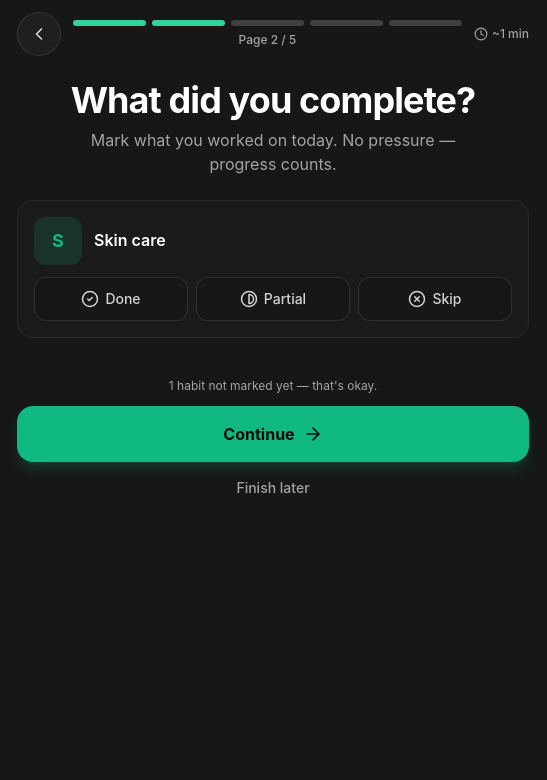
Test: CheckInPage › skips the mood and effort pages when nothing needs reflection
Click the button "Skip": click(435, 299) [358,277,512,321]
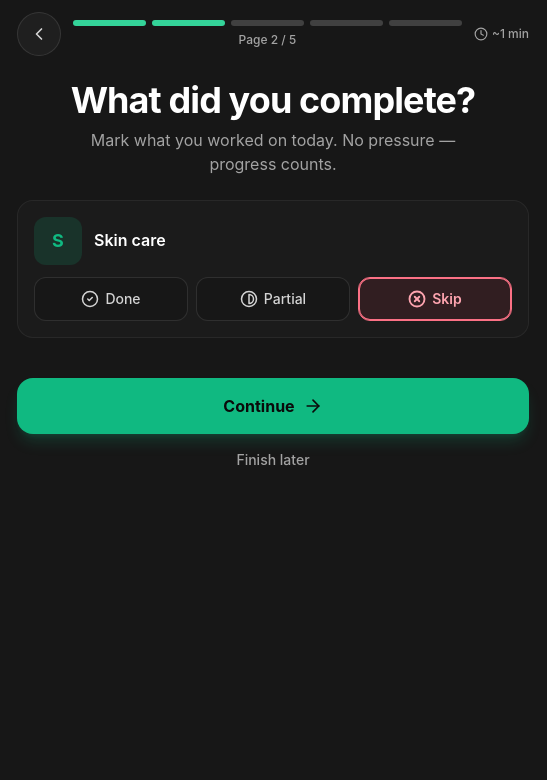
Click the button "Continue": click(273, 406) [17,378,529,434]
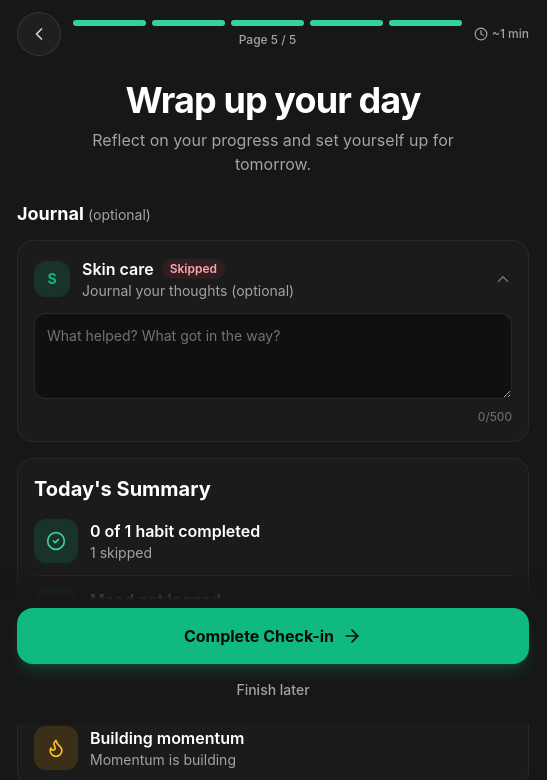
Check: the heading "Wrap up your day" is shown, box [126,78,420,122]
In-app back pops the history entry pushed on the way forward (async popstate).
Click the button named "Previous page": click(39, 34) [17,12,61,56]
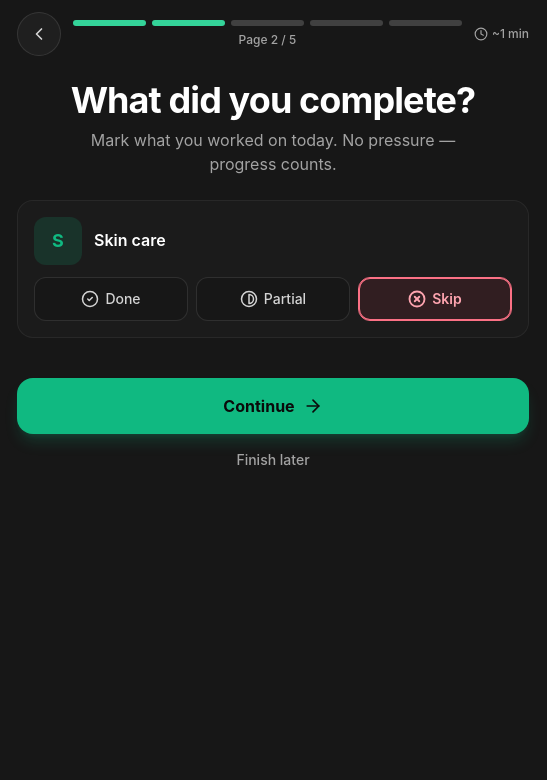
Check: the heading "What did you complete?" is shown, box [71,78,475,122]
